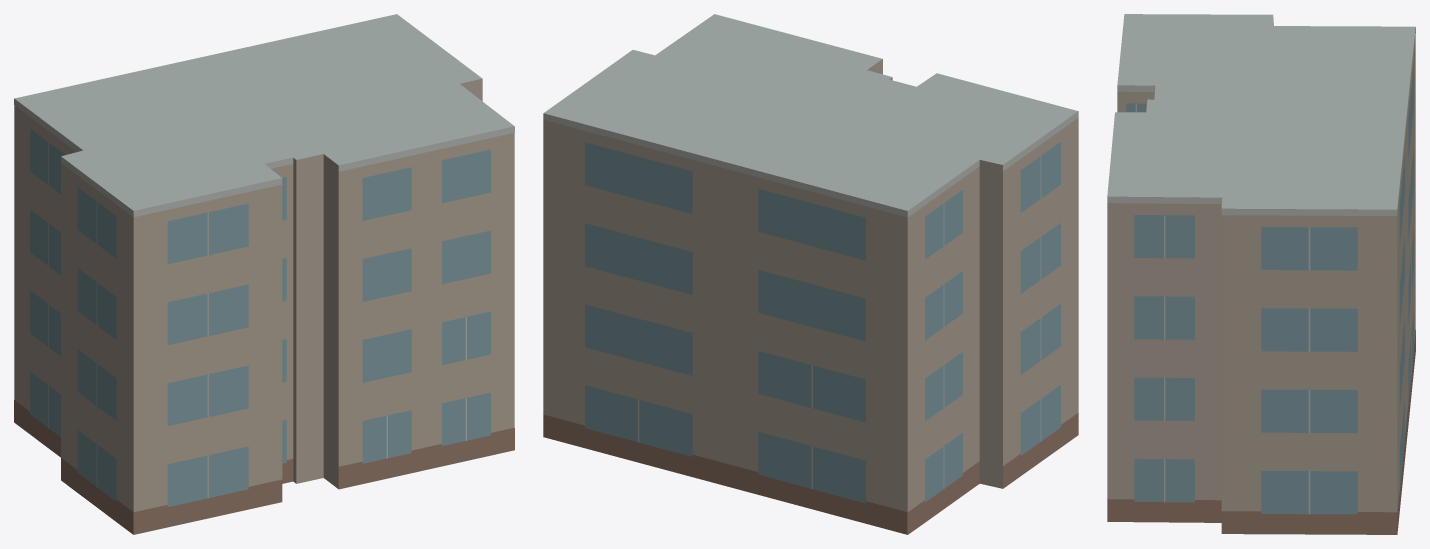
File: survey-upis-32690846.glb
3 views of the same model, side by side, from view 1: azimuth 30°, elevation 25°; view 2: azimuth 150°, elevation 25°; view 3: azimuth 270°, elevation 25° (orthographic).
Parts seen in each view (by area): view 1: survey-upis-32690846.tmp; view 2: survey-upis-32690846.tmp; view 3: survey-upis-32690846.tmp.
Boxes of the visible parts, bbox=[...] form: survey-upis-32690846.tmp: bbox=[14, 14, 514, 534]; survey-upis-32690846.tmp: bbox=[543, 14, 1078, 534]; survey-upis-32690846.tmp: bbox=[1107, 14, 1415, 534].
Bounding box in the file's own units: 15.88 × 12.3 × 10.58.
